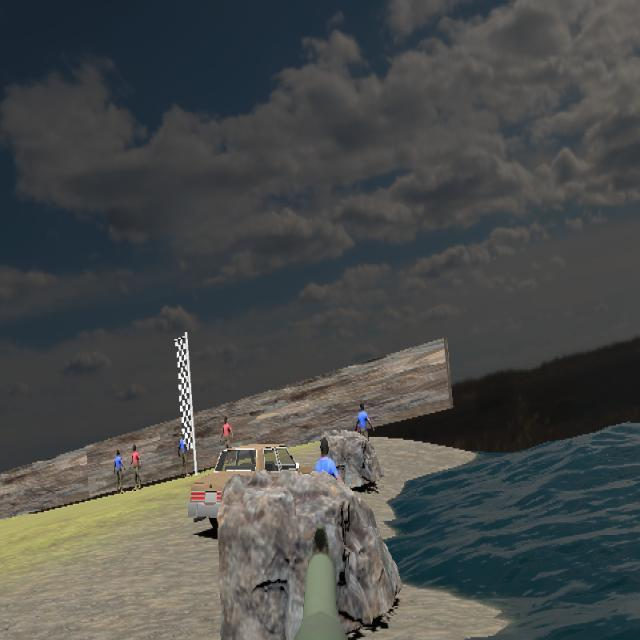Human: (355, 401, 374, 460), (130, 444, 143, 491), (113, 449, 125, 493), (220, 416, 233, 456)
